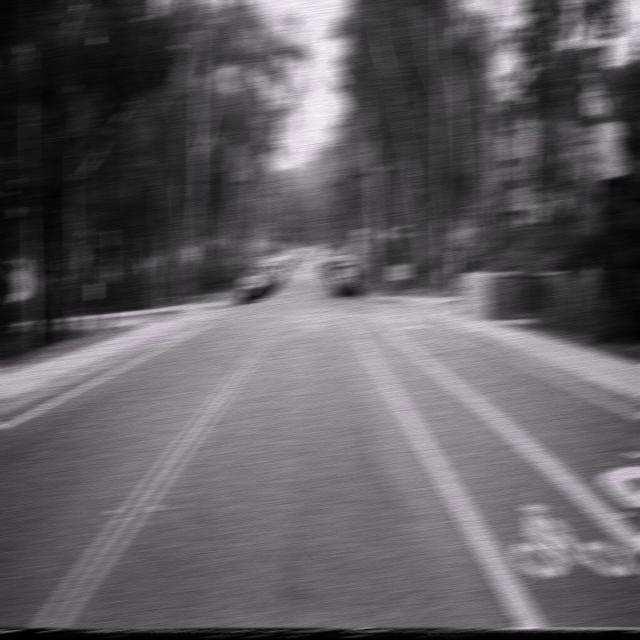stop: (452, 218, 472, 246)
